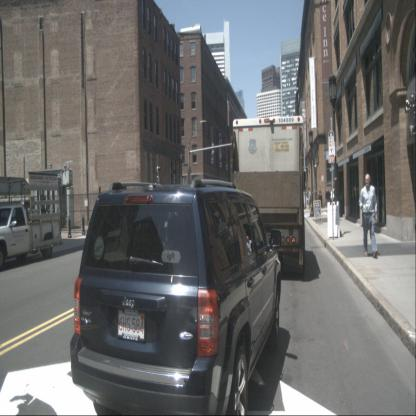human-pedestrian-adult: (358, 172, 378, 258), (330, 185, 335, 217), (326, 188, 330, 217), (308, 188, 312, 216), (318, 190, 322, 214)
vehicle-car: (70, 186, 282, 416)
vehicle-truck: (232, 115, 305, 276), (0, 172, 64, 270)
